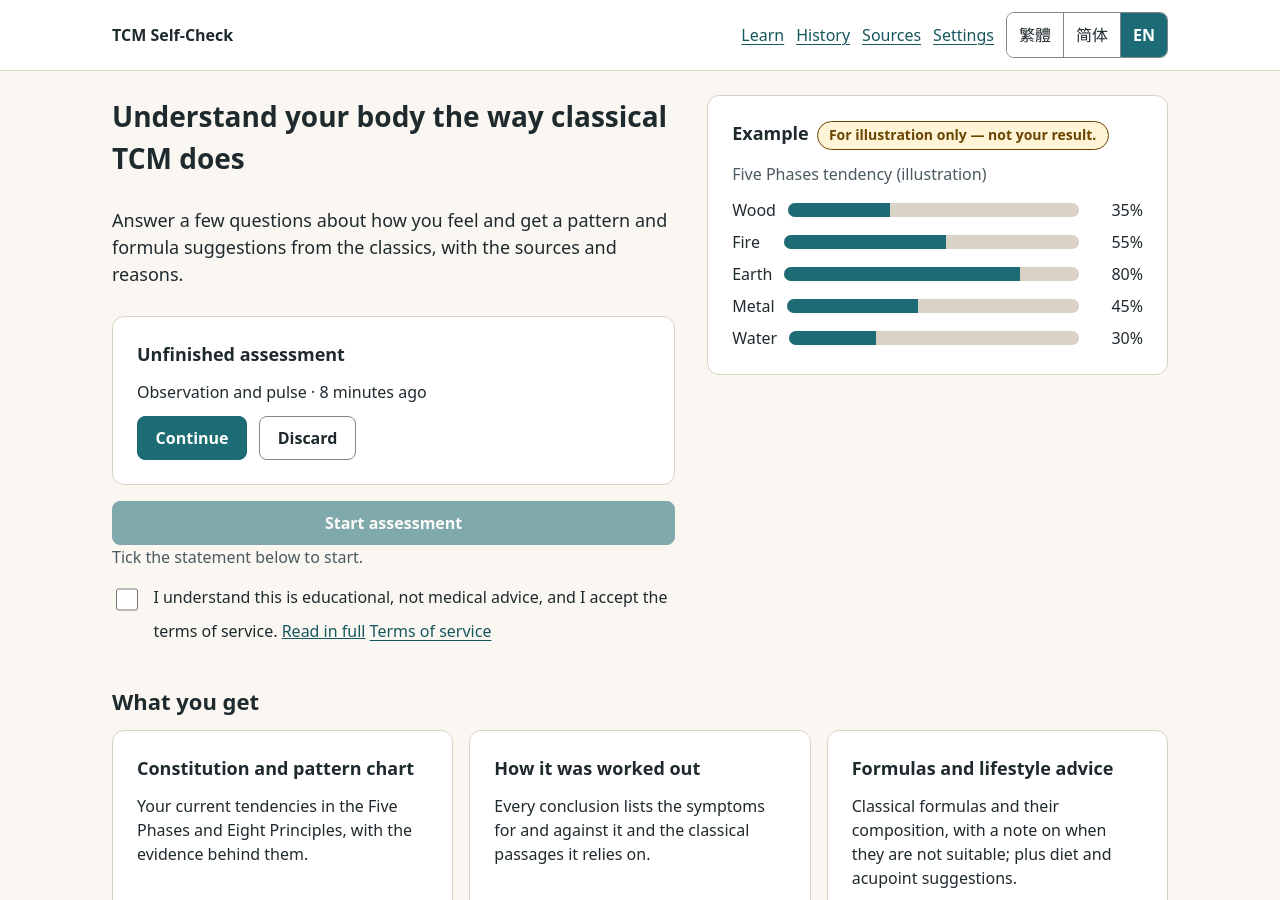
Landing (S01) › resume › Discard asks first; cancelling keeps the draft, confirming deletes it everywhere
Expected: the heading "Unfinished assessment" is shown, top-left (137, 342), bottom-right (345, 366)
Click the button "Discard" at {"x": 308, "y": 438}, box top-left (259, 416), bottom-right (356, 460)
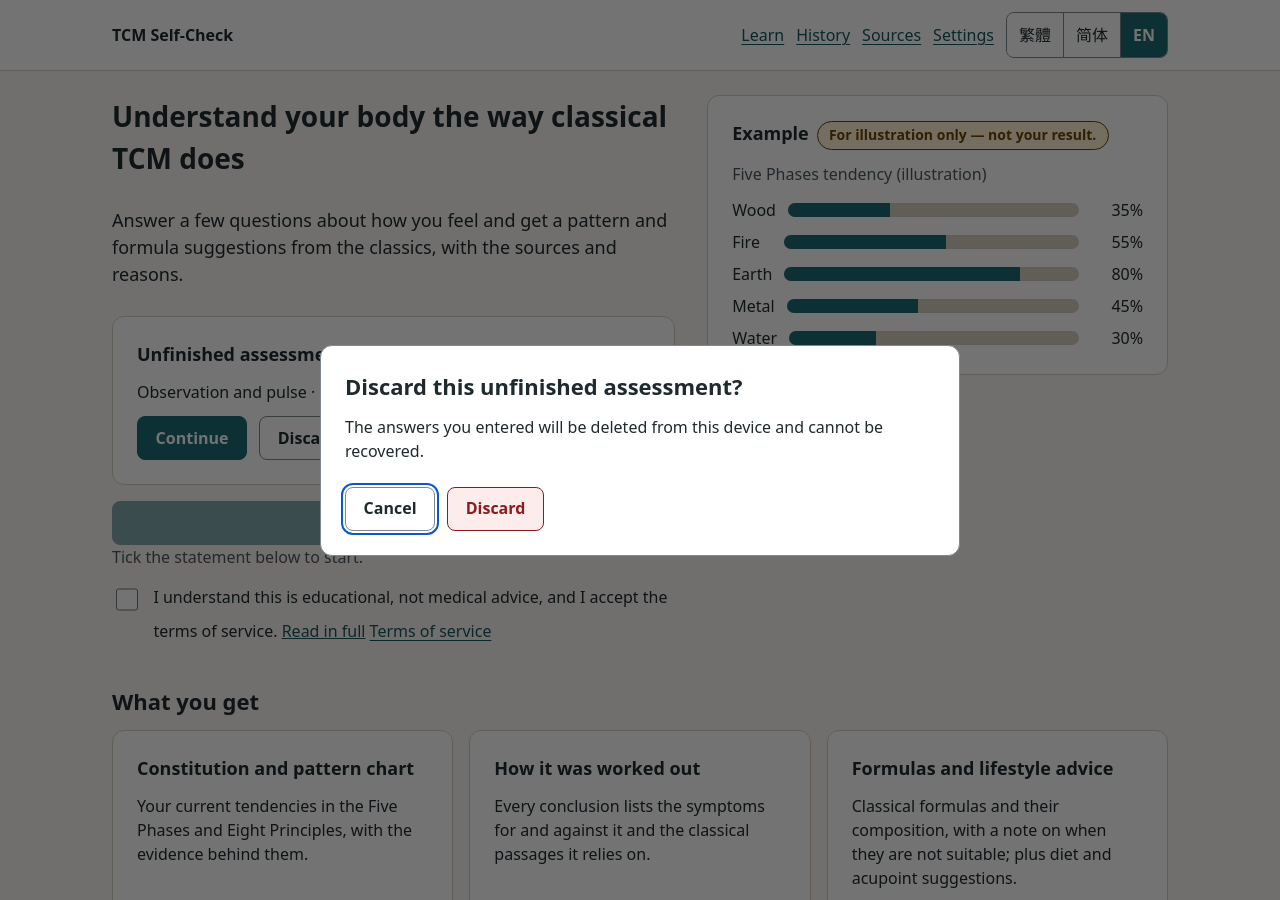
Click the button "Cancel" at {"x": 390, "y": 508}, box top-left (345, 486), bottom-right (435, 530)
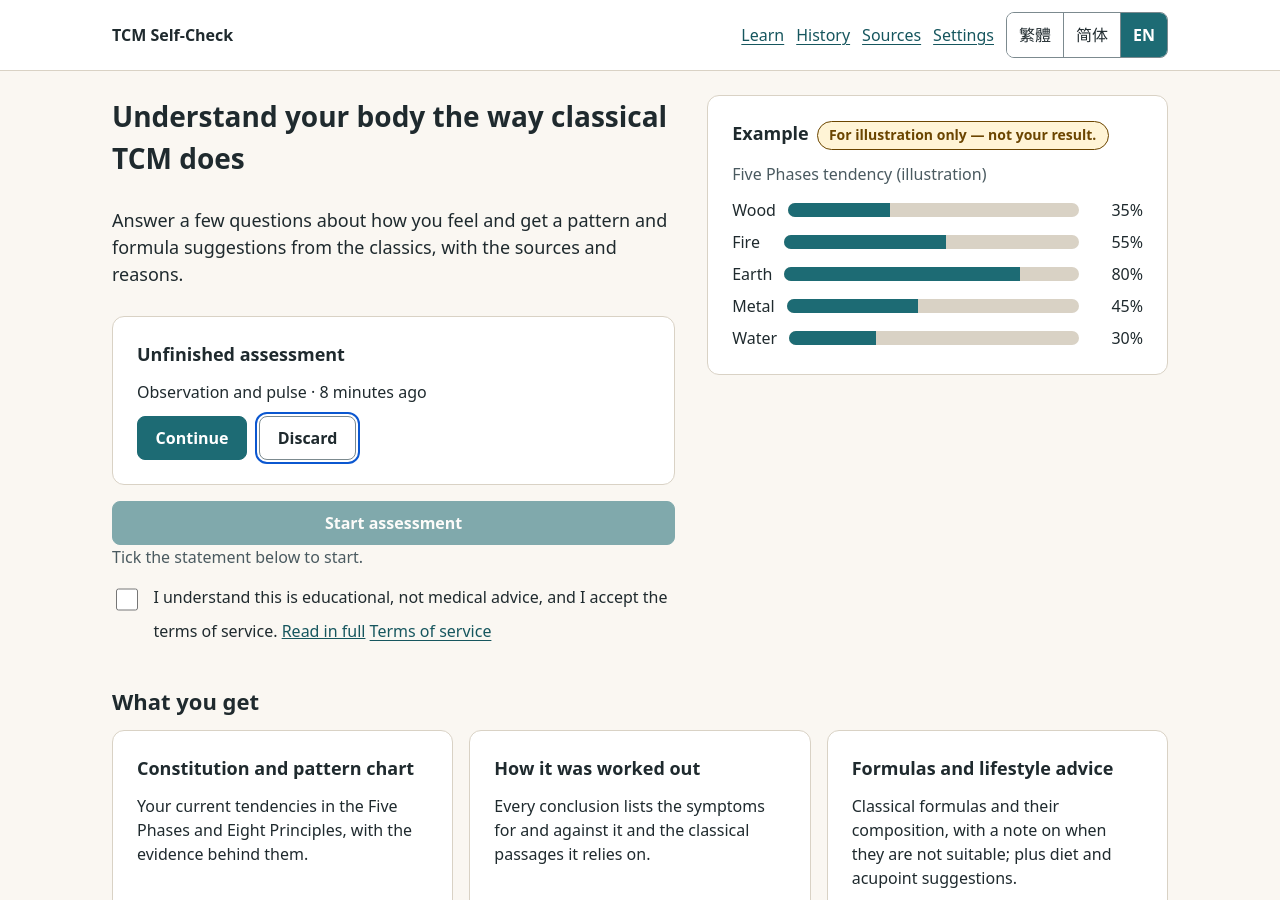
Click the button "Discard" at {"x": 308, "y": 438}, box top-left (259, 416), bottom-right (356, 460)
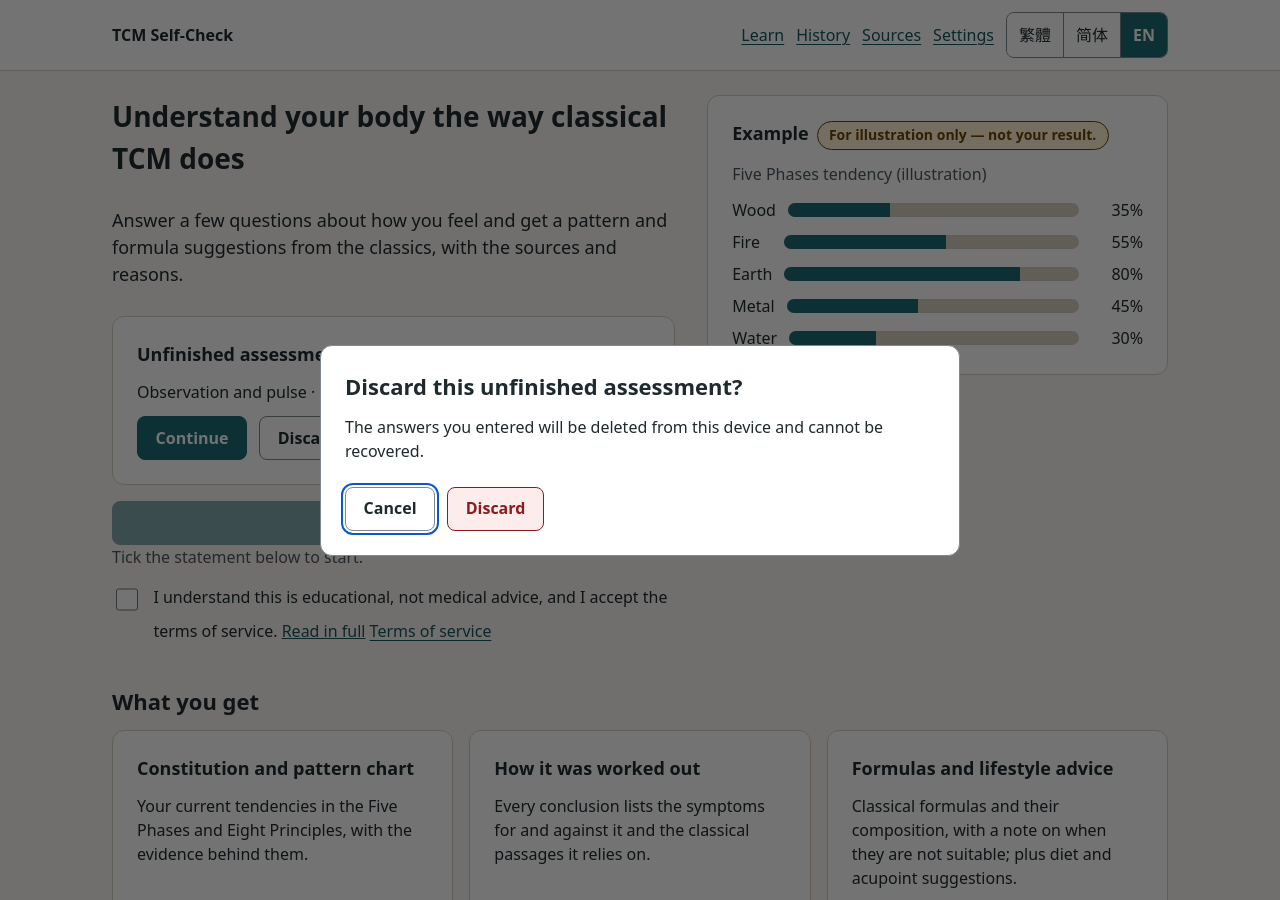
Click the button "Discard" at {"x": 496, "y": 508}, box top-left (447, 486), bottom-right (544, 530)
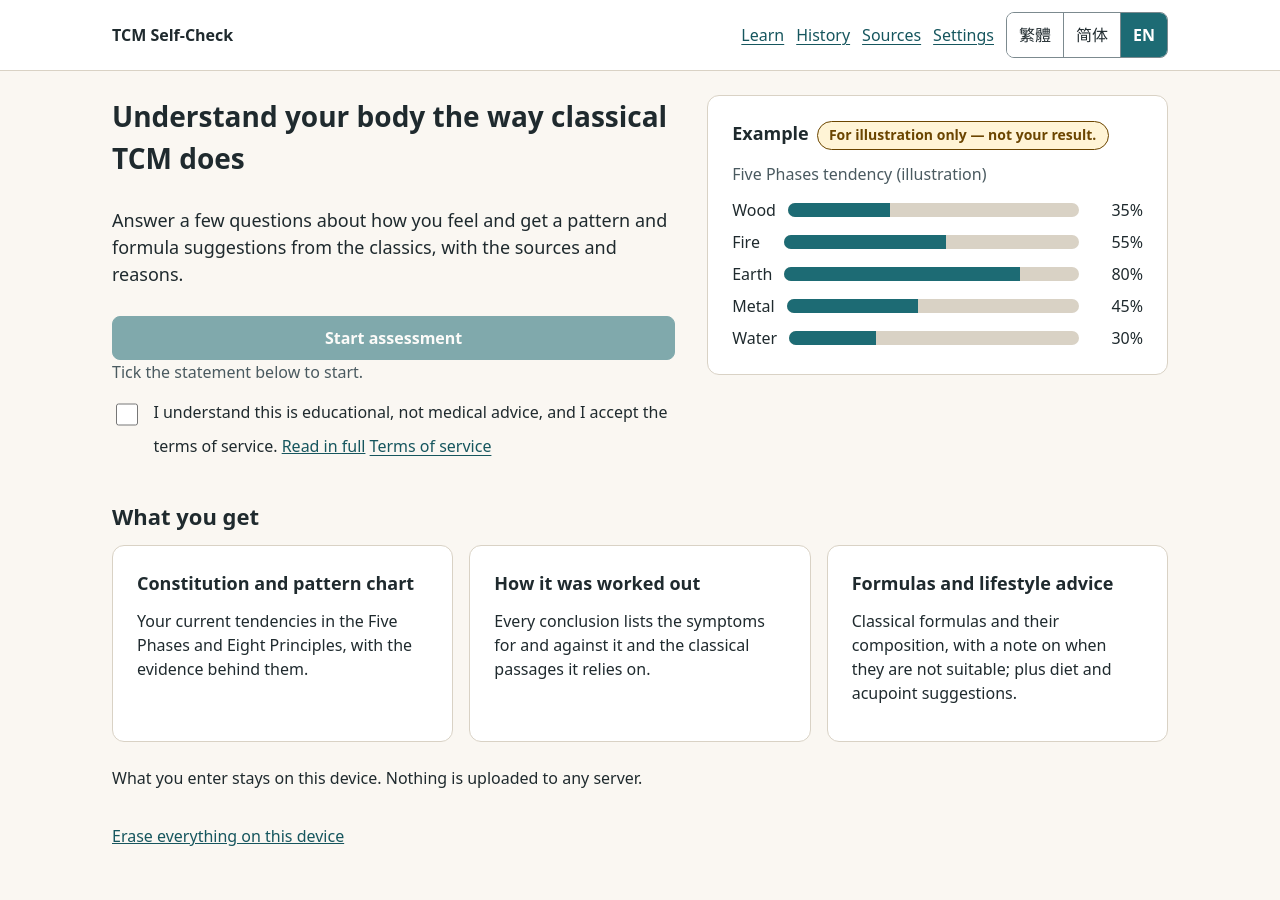
Now the heading "Unfinished assessment" is gone
